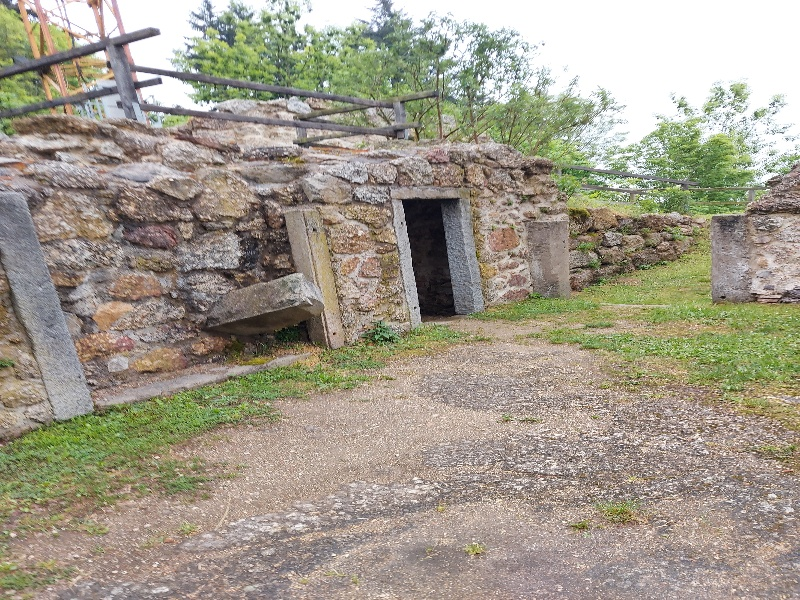door2: (386, 175, 490, 324)
